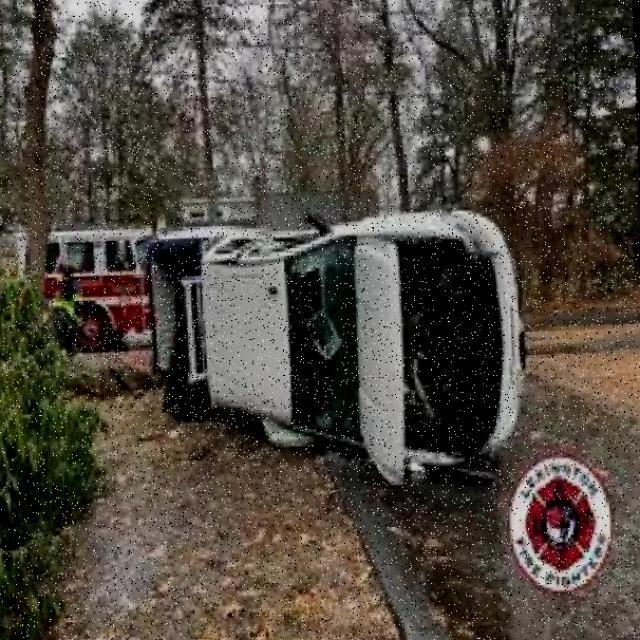accident: (142, 204, 535, 494)
